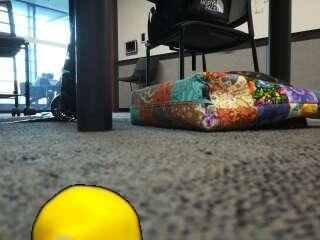lemon: (33, 185, 141, 240)
